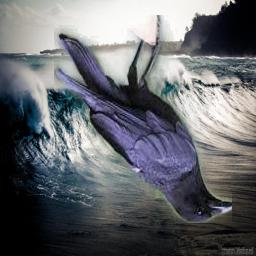Crow: (54, 15, 232, 223)
